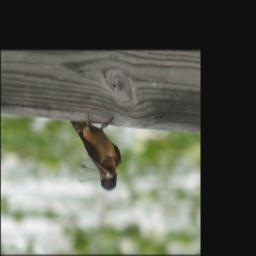Swallow: (69, 110, 121, 191)
